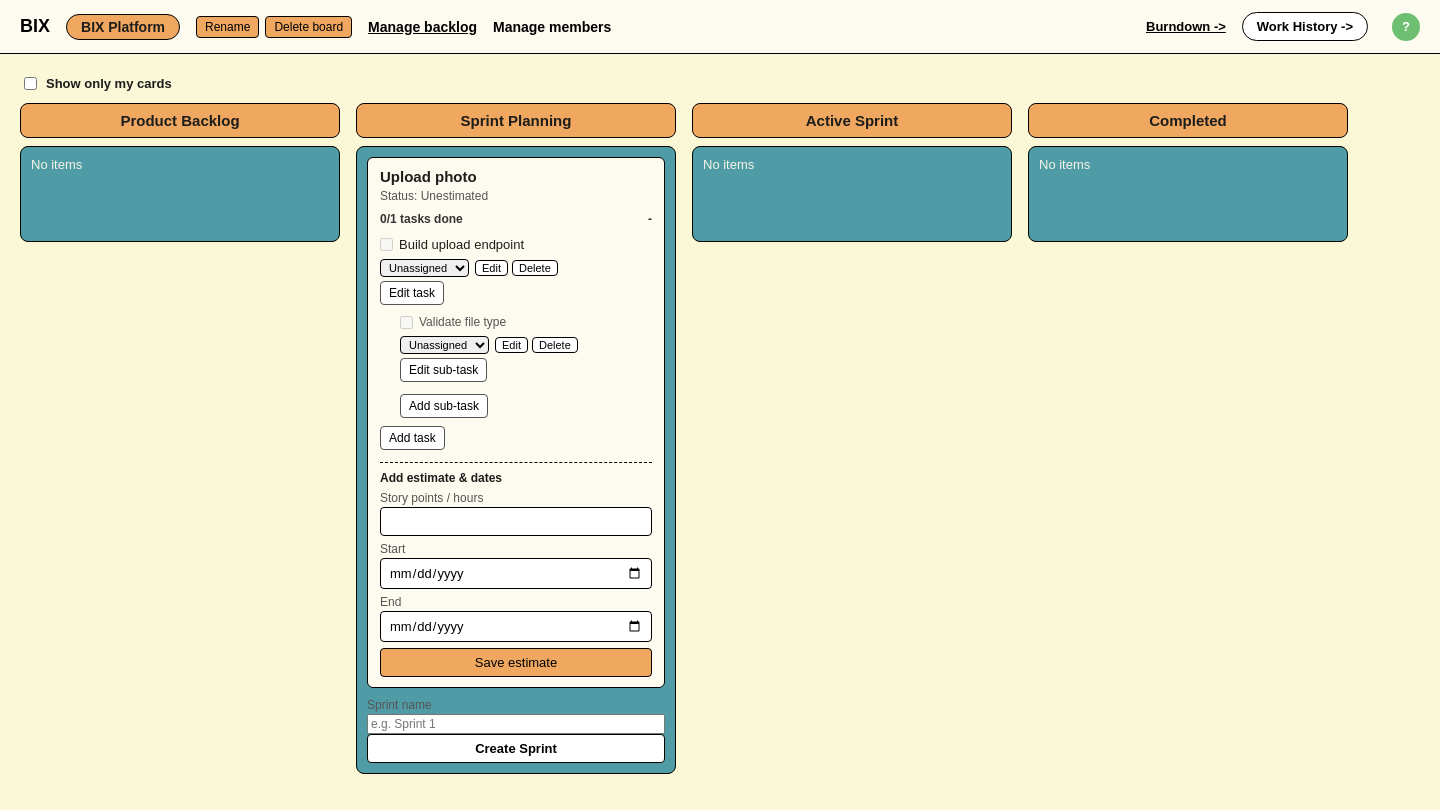
Board page - admin task/sub-task controls (US-04a) › delete › shows an error and re-enables Delete when the backend rejects (e.g. a completed PBI)
Expected: the text "Build upload endpoint" is shown, [399,237,524,252]
Click the button "Delete" below "Build upload endpoint" at (535, 268), box [512,260,558,276]
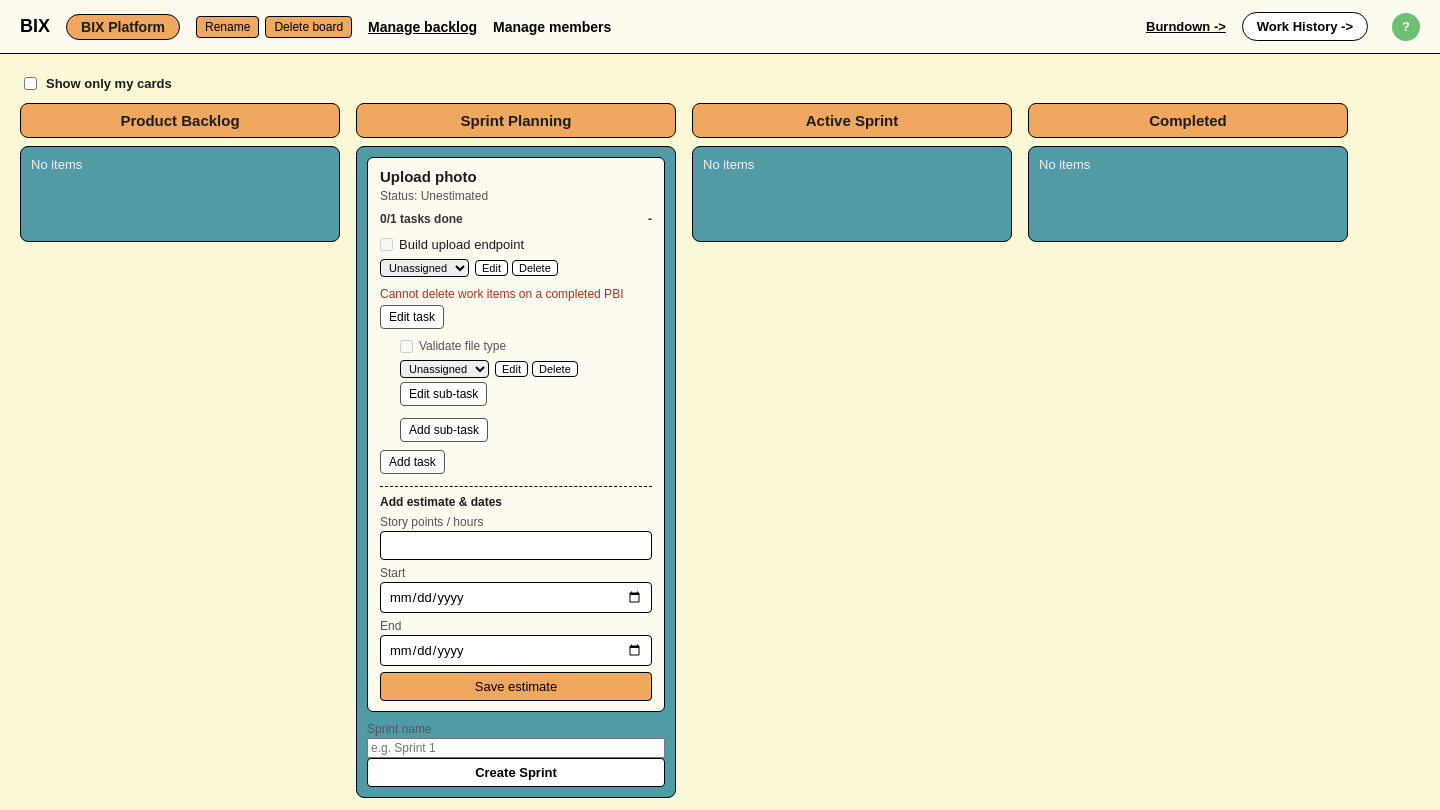
Expected: the text "Build upload endpoint" is shown, [399,237,524,252]
Expected: the message reads "Cannot delete work items on a completed PBI", [380,287,624,301]
